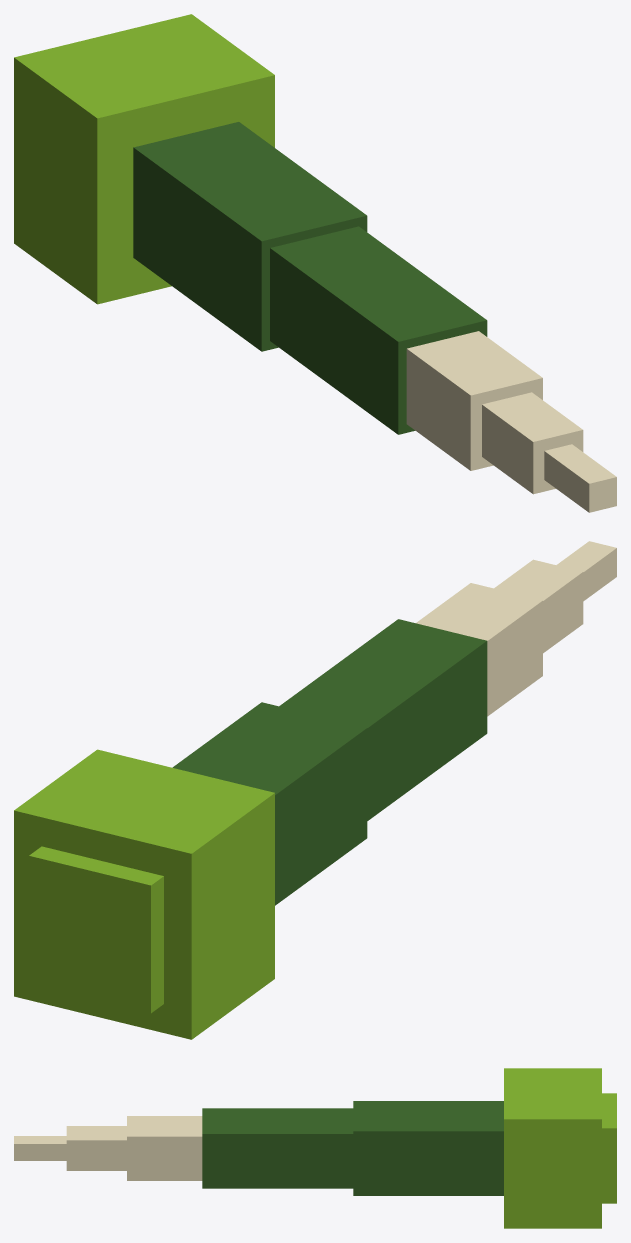
The model's file is fx_pet_thorn_pop.glb.
3 renders of one model, top to bottom at view 1: azimuth 30°, elevation 25°; view 2: azimuth 150°, elevation 25°; view 3: azimuth 270°, elevation 25°, orthographic. The views are drawn at different scales.
Visible parts, largest first — view 1: Needle_vine, Needle_leaf, Needle_ivory; view 2: Needle_leaf, Needle_vine, Needle_ivory; view 3: Needle_vine, Needle_leaf, Needle_ivory.
Boxes of the visible parts, x1,y1,x2,y2 form: Needle_vine: (133,122,487,434); Needle_leaf: (14,14,274,304); Needle_ivory: (406,331,616,512); Needle_leaf: (14,749,274,1039); Needle_vine: (172,619,487,905); Needle_ivory: (416,541,616,716); Needle_vine: (202,1101,503,1195); Needle_leaf: (504,1068,616,1228); Needle_ivory: (14,1116,202,1180).
Size of the model in its own units: 0.32 by 0.32 by 1.6.
